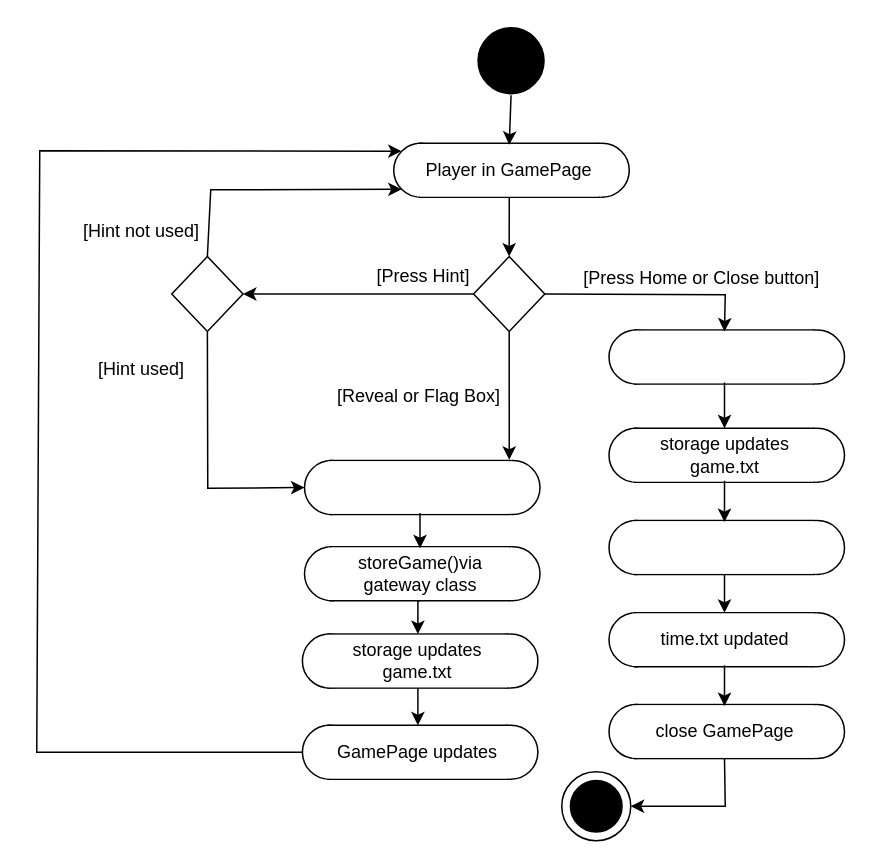
The diagram is 872 pixels wide and 867 high, and some of its shapes have lost their labels. Here are the shapes that lost their labels. From the top down, the centre of each, then its label:
the point at 724,356: storeGame() via gateway class
the point at 419,486: Gameboard updates
the point at 724,546: pauseAndStopTime() via gateway class
